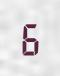six: (19, 19, 38, 56)
